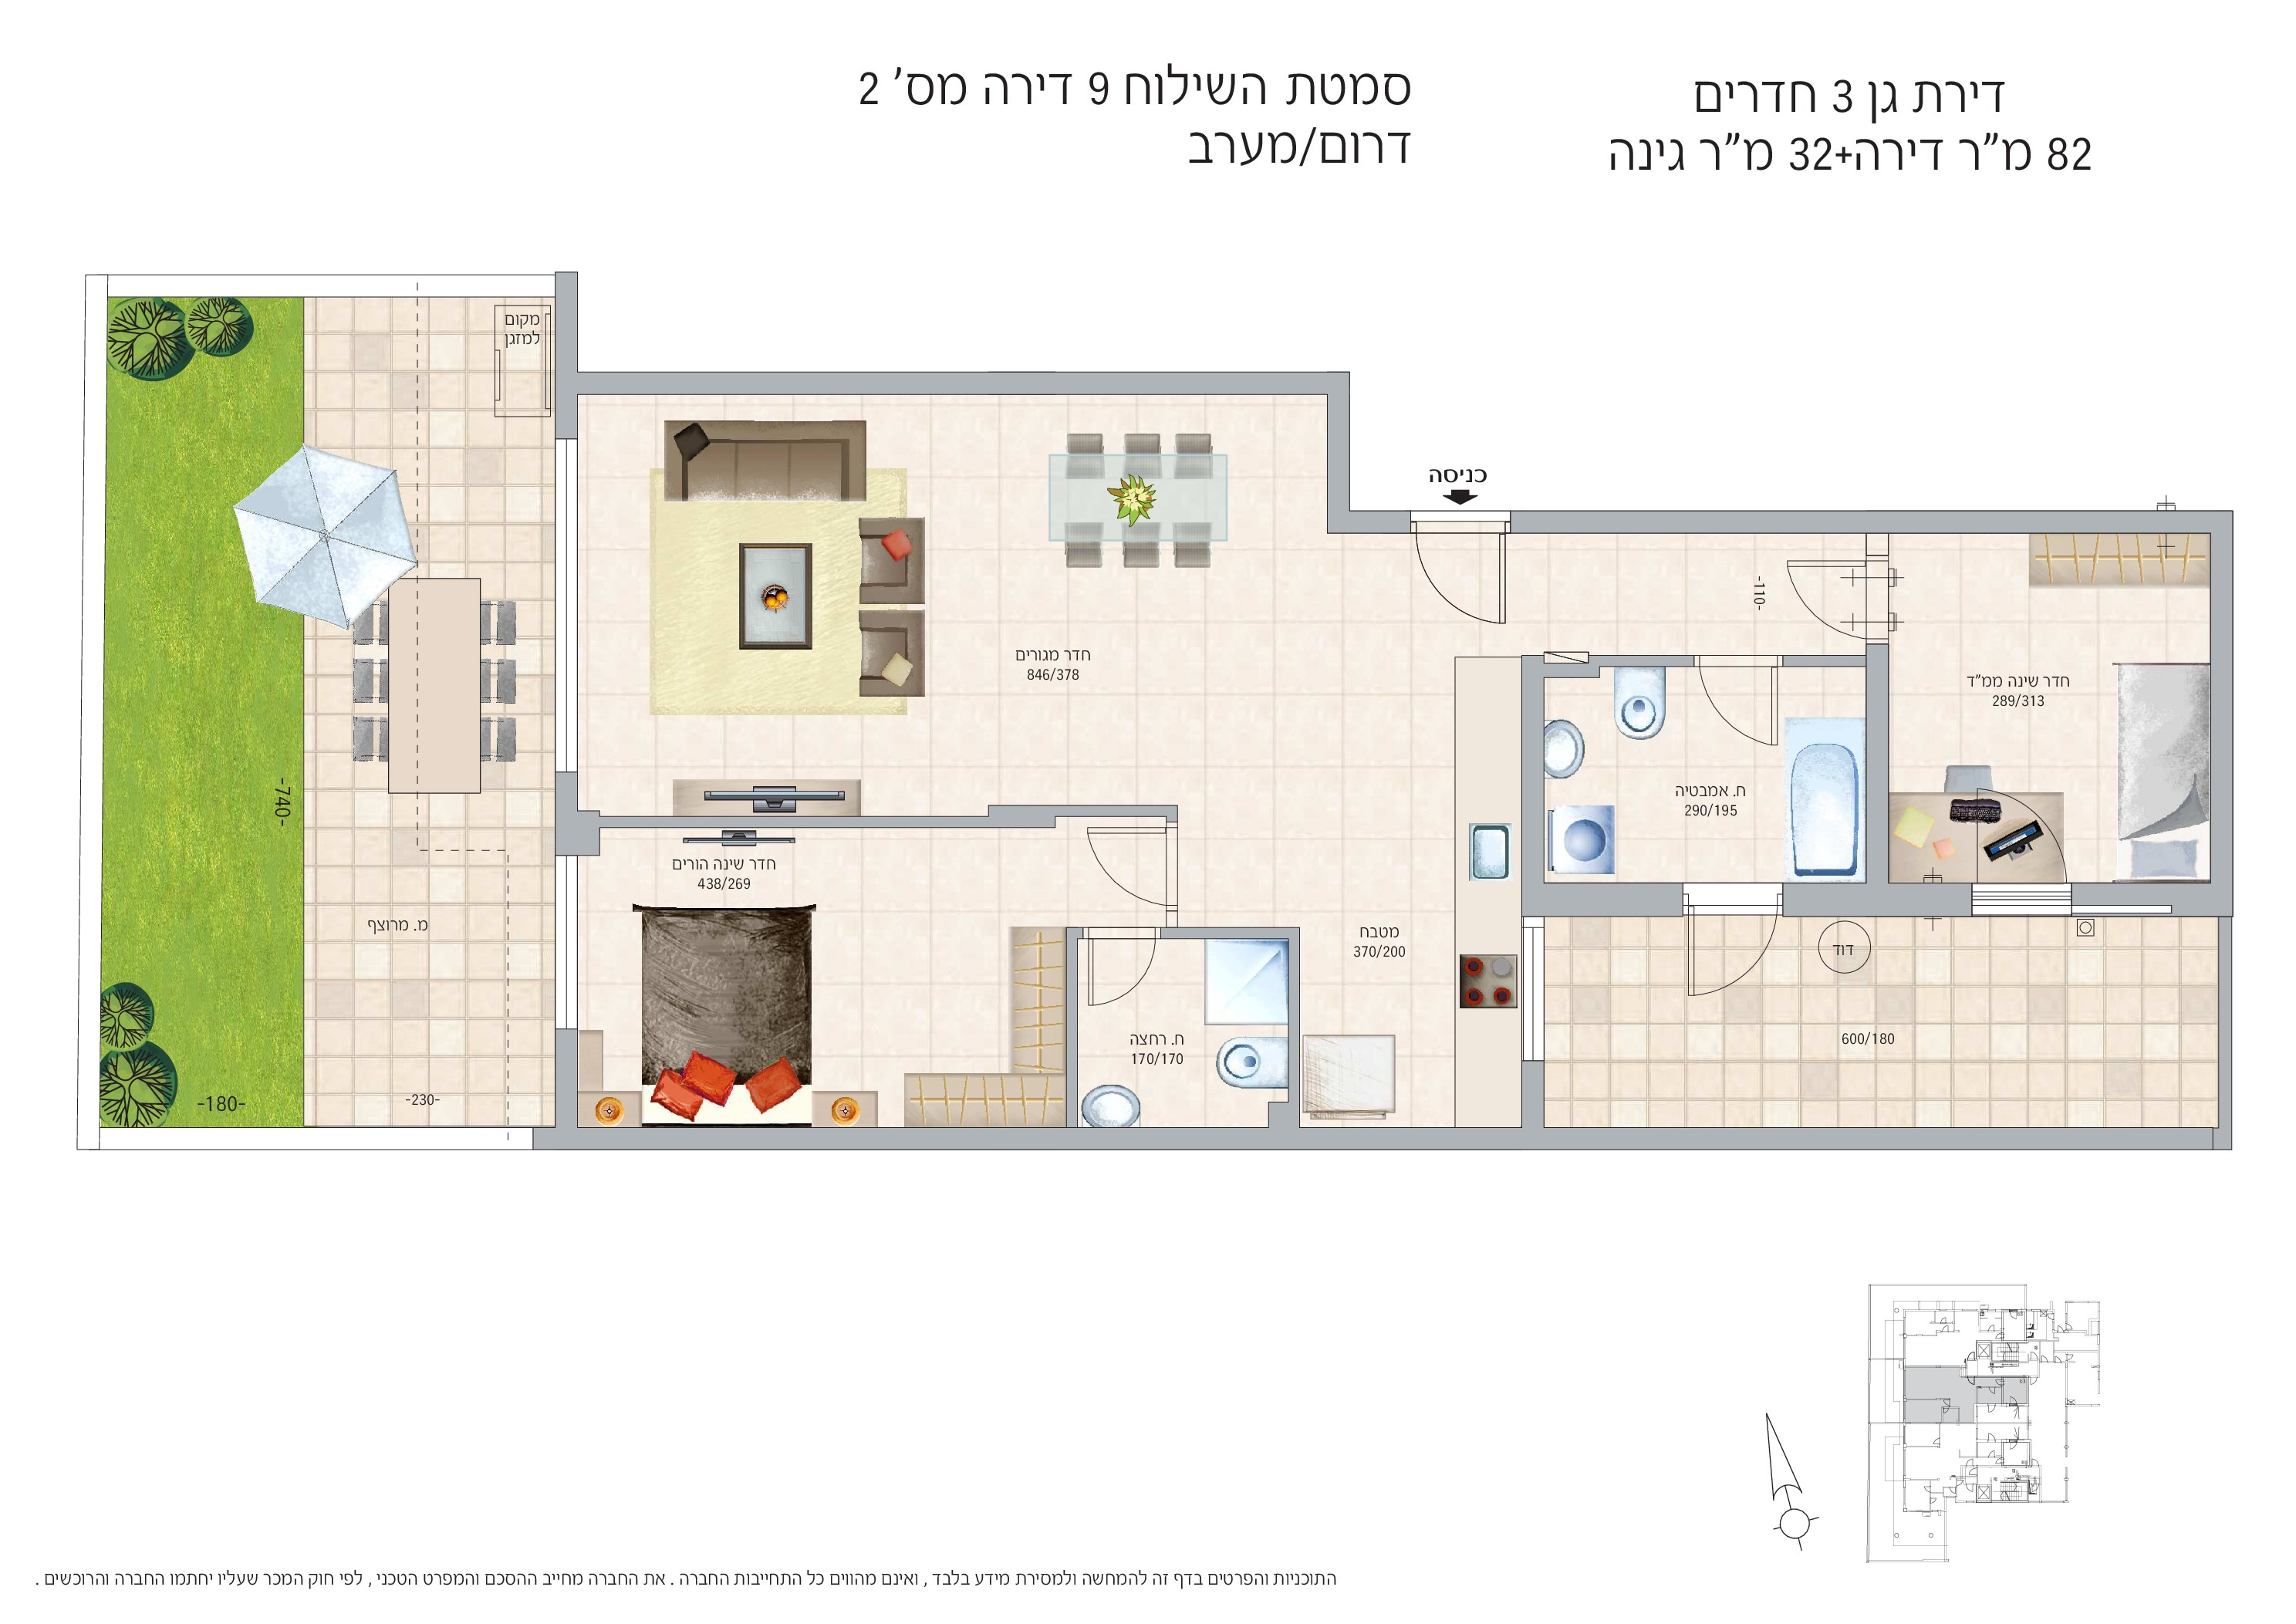door: (1395, 554, 1532, 642), (1664, 928, 1788, 1005), (1686, 685, 1795, 763), (1084, 817, 1154, 916), (1086, 947, 1163, 1014)
wall: (1279, 1125, 2240, 1162), (539, 1127, 1398, 1158), (574, 367, 1346, 399), (1507, 504, 2236, 531), (2208, 526, 2233, 910), (1523, 656, 1549, 923), (1544, 879, 1679, 916), (1328, 373, 1351, 547), (552, 271, 576, 411)
window: (559, 434, 578, 775), (559, 852, 574, 1019)
